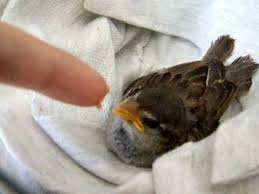hsparrow: (104, 42, 258, 154)
